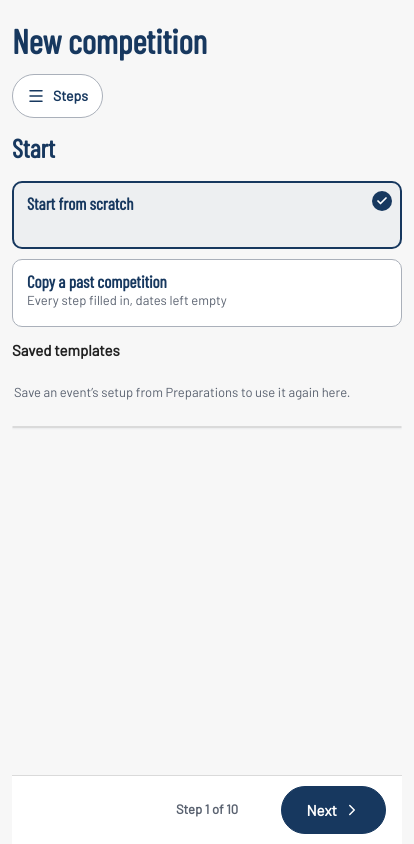
CompetitionEditor: starting › starts from scratch by default, and copying holds Next until a competition is chosen
Click the button "Copy a past competition": (207,293) [12,259,402,327]
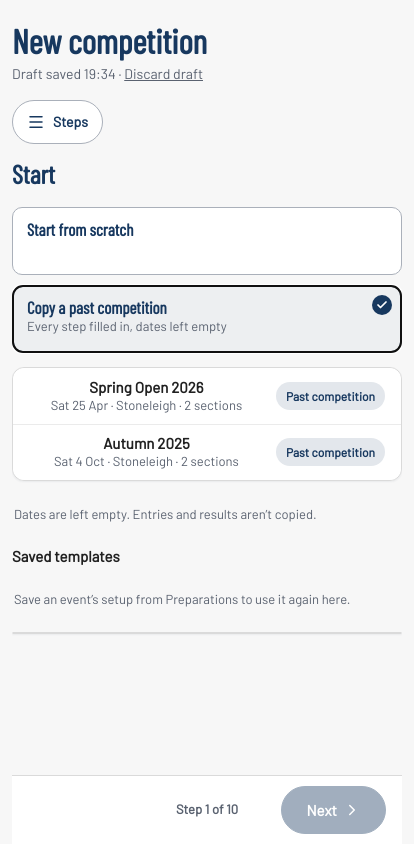
Expected: the button "Next" is disabled, [282,786,386,834]
Expected: the text "Dates are left empty. Entries and results aren’t copied." is shown, [14,506,317,522]
